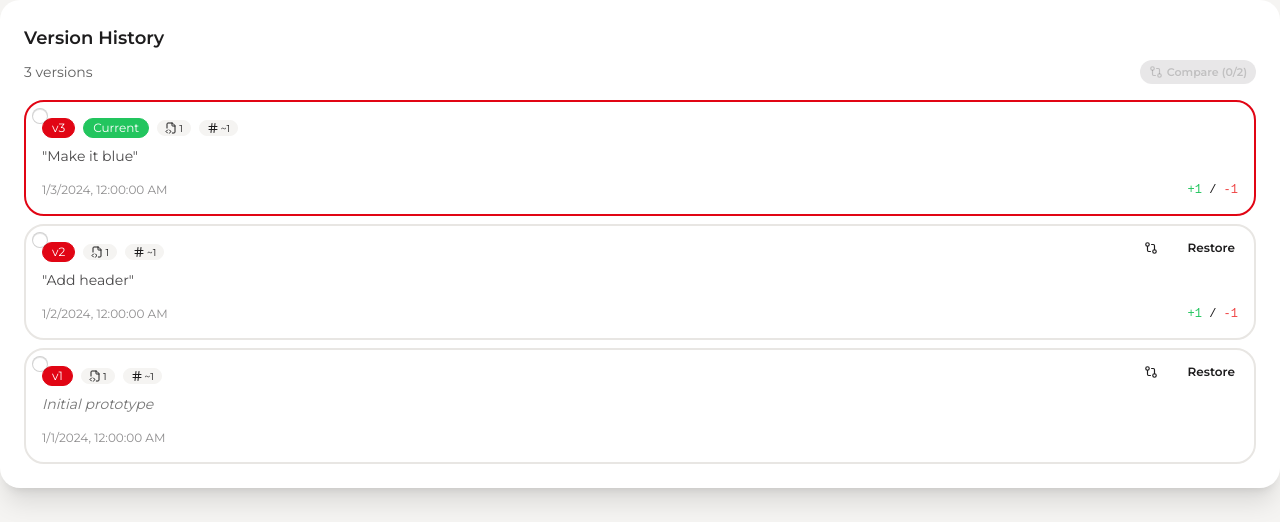
Test case: VersionHistoryPanel › Compare selection (Story 7.5) › disables compare button when fewer than 2 versions selected
// Select one version
Click the checkbox with test id "compare-checkbox-proto-1" at (40, 364), box [32,356,48,372]
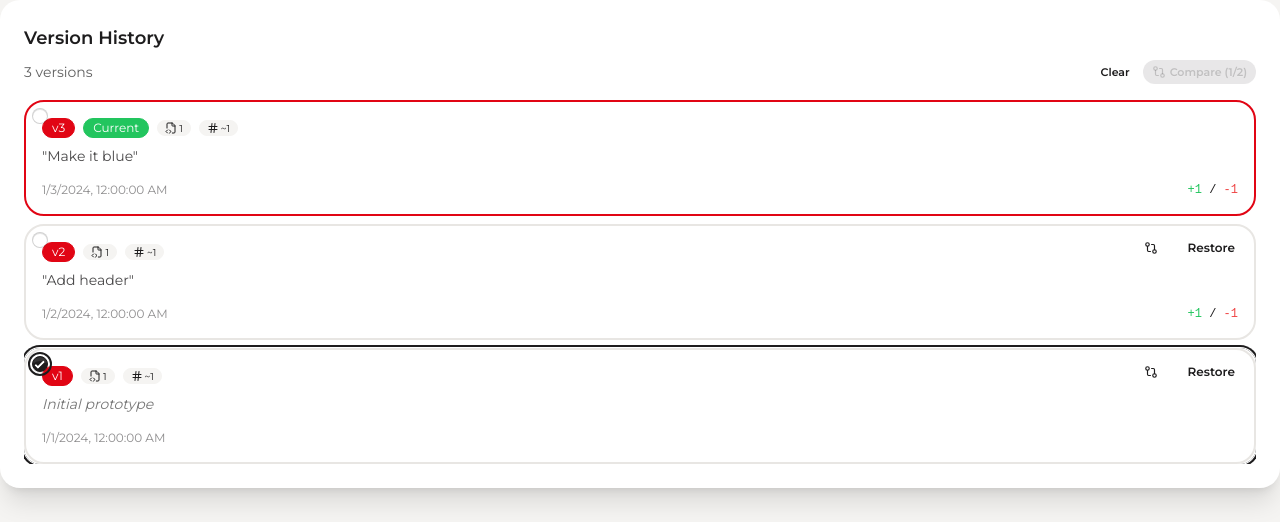
Expected: the button with test id "compare-selected-btn" is disabled, [1143,60,1256,84]
Expected: the button with test id "compare-selected-btn" reads "Compare (1/2)", [1143,60,1256,84]
